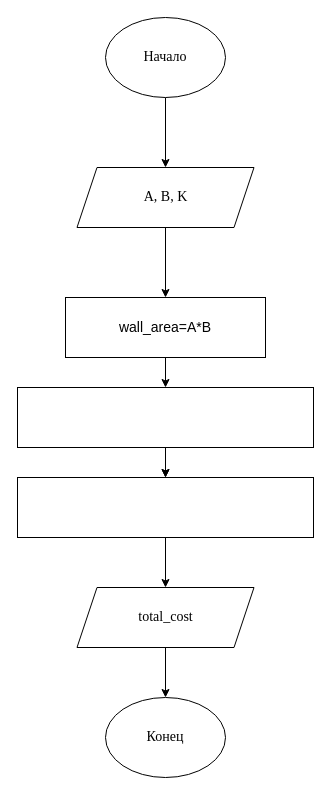
Image size: 331x795. Some labels were removed from this diagram. The box of each missing label's shape, as (x1, y1, x2, y2) in pixels:
rolls_needed=wall_area/ROLL_AREA: (16, 386, 314, 448)
total_cost=rolls_needed*K: (16, 476, 314, 538)
